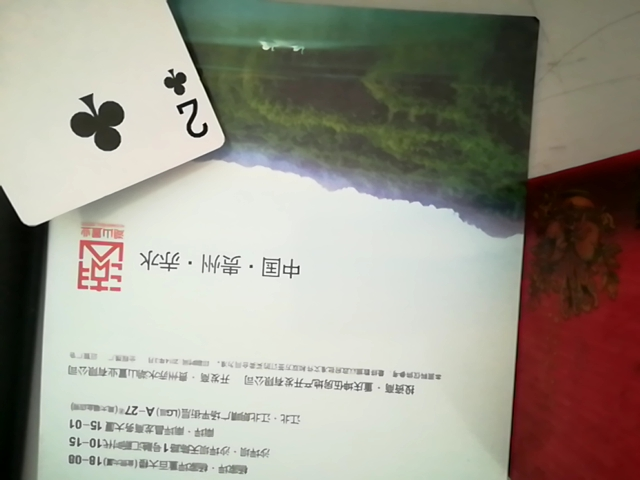mh 2: (3, 0, 217, 254)
